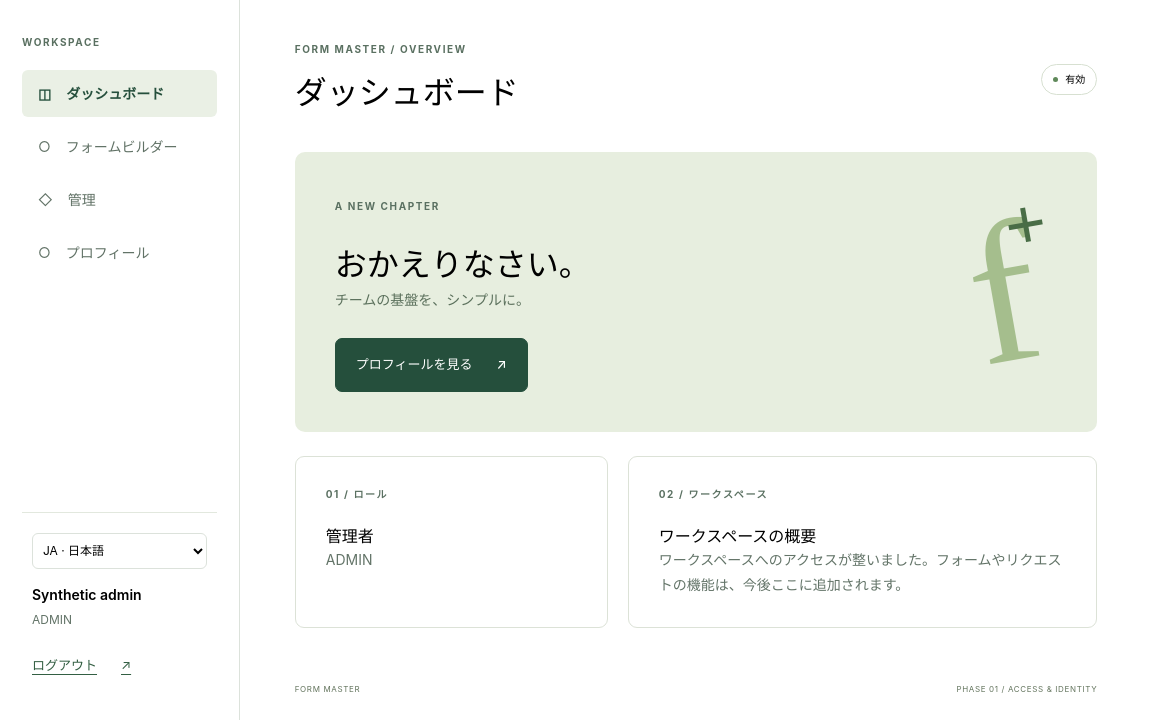
authentication shell › admin sees protected management and profile
Expected: the heading "おかえりなさい。" is shown, top-left (335, 241), bottom-right (591, 289)
Click the link "◇ 管理" at (67, 200), box top-left (38, 191), bottom-right (96, 208)
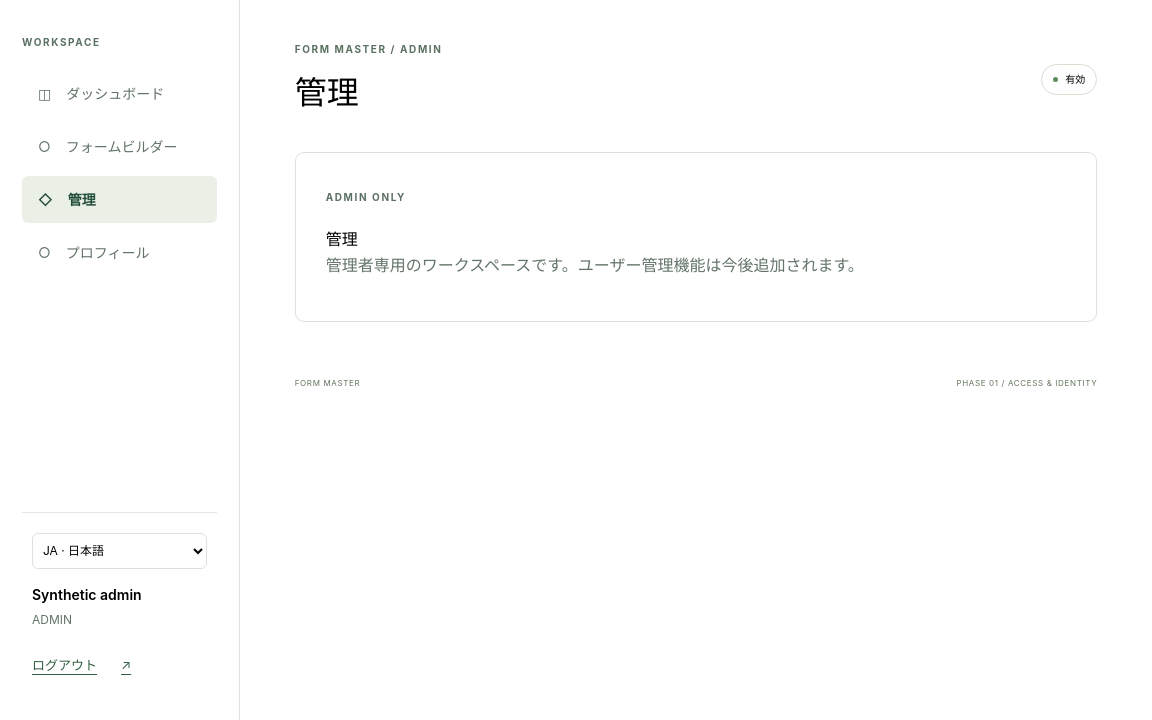
Expected: the text "管理者専用のワークスペースです。ユーザー管理機能は今後追加されます。" is shown, top-left (326, 255), bottom-right (864, 275)
Click the link "○ プロフィール" at (94, 252), box top-left (38, 244), bottom-right (150, 261)
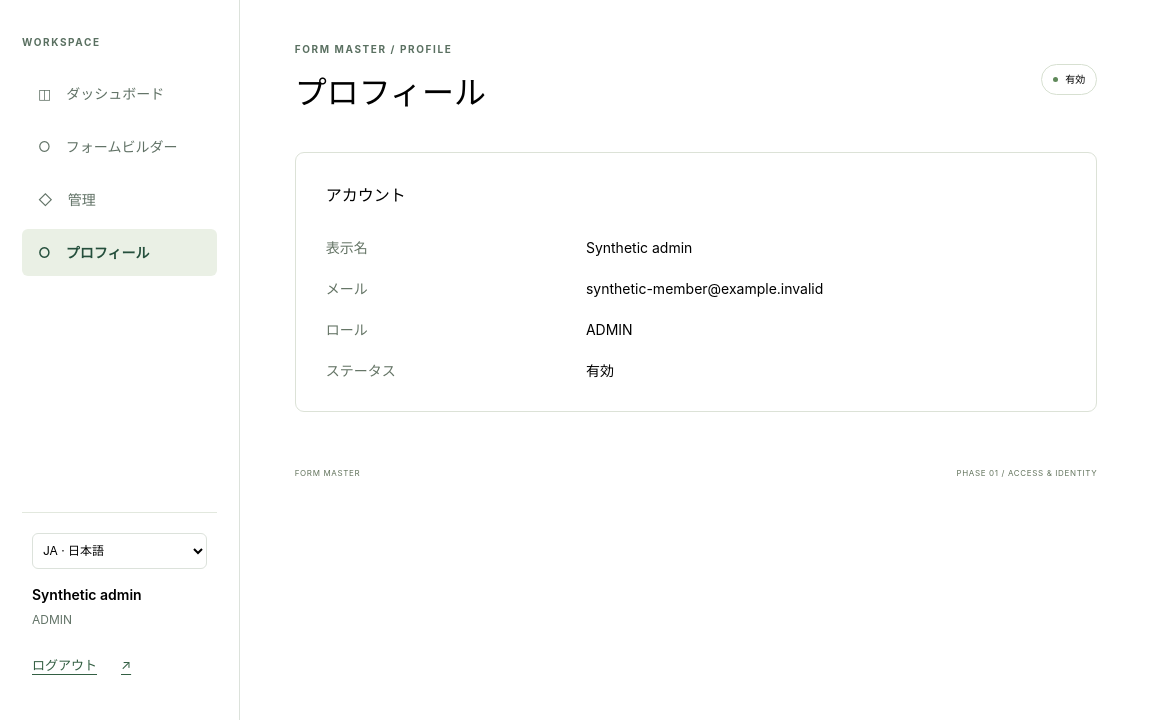
Expected: the text "synthetic-member@example.invalid" is shown, top-left (586, 280), bottom-right (823, 297)
